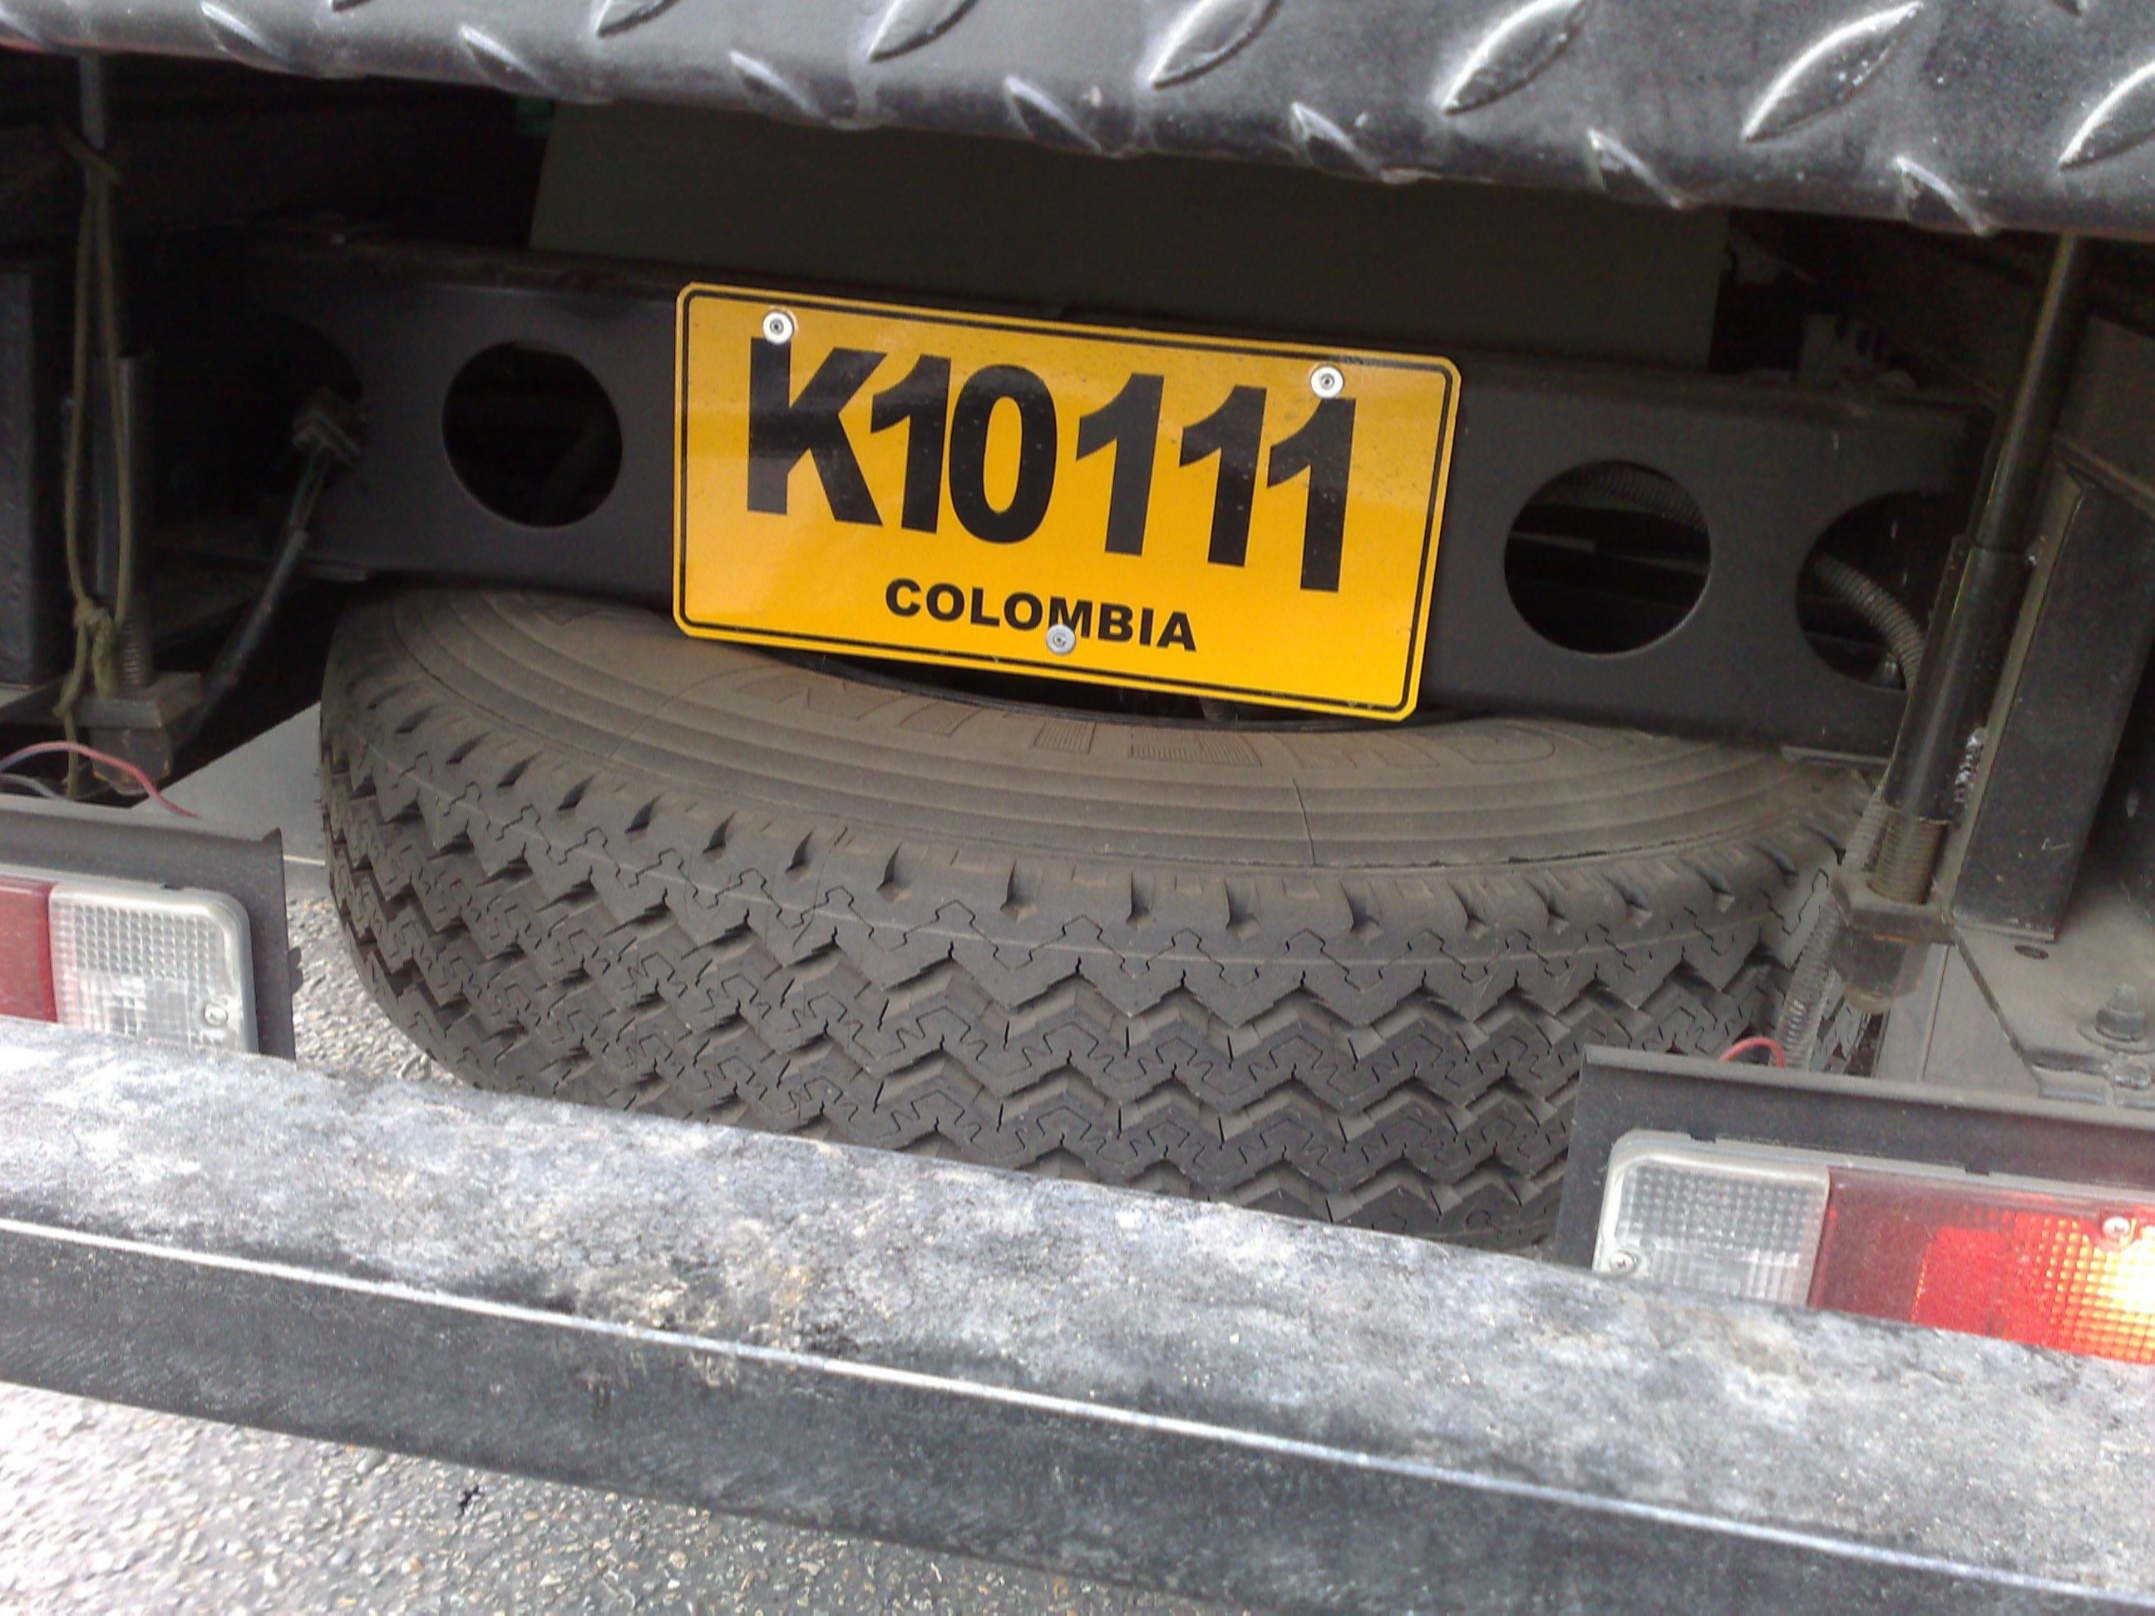placas: (663, 257, 1469, 733)
